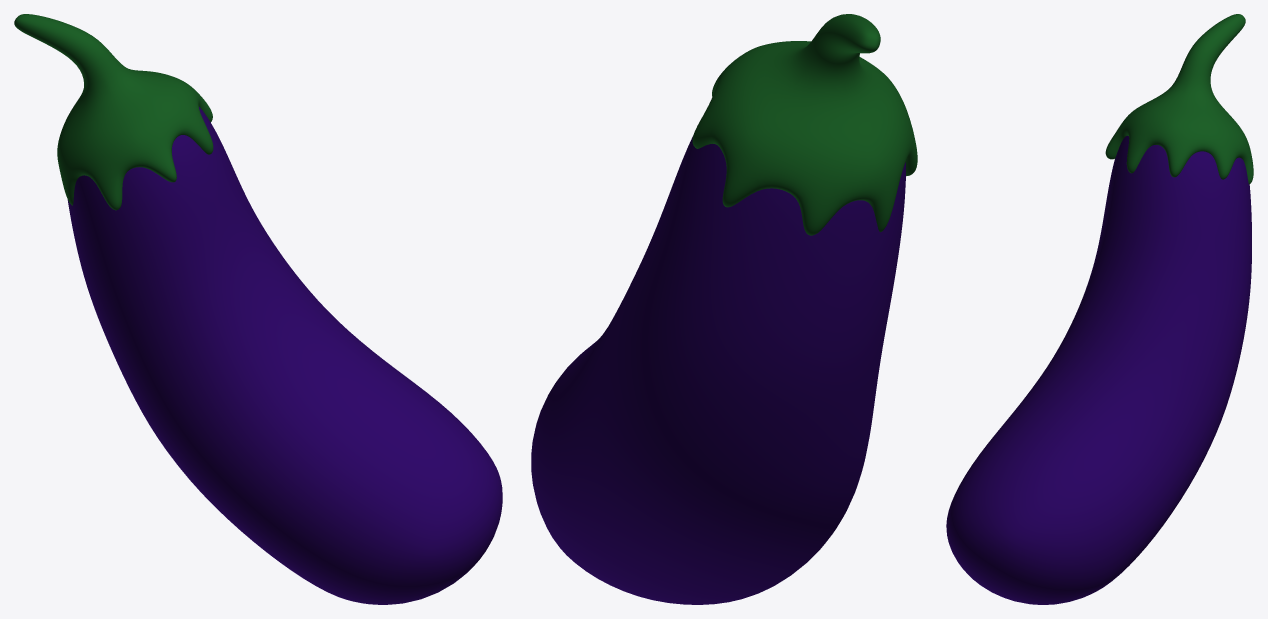
File: eggplant.fbx
3 views of the same model, side by side, from view 1: azimuth 30°, elevation 25°; view 2: azimuth 150°, elevation 25°; view 3: azimuth 270°, elevation 25° (orthographic). The views are drawn at different scales.
Parts seen in each view (by area): view 1: Cube, Cube.004; view 2: Cube, Cube.004; view 3: Cube, Cube.004.
Boxes of the visible parts, left/top/right/bottom form: Cube: left=67, top=107, right=502, bottom=604; Cube.004: left=14, top=14, right=213, bottom=210; Cube: left=531, top=136, right=905, bottom=604; Cube.004: left=692, top=14, right=917, bottom=235; Cube: left=946, top=135, right=1251, bottom=604; Cube.004: left=1105, top=14, right=1253, bottom=184.
Bounding box in the file's own units: 114 × 170 × 99.41.
